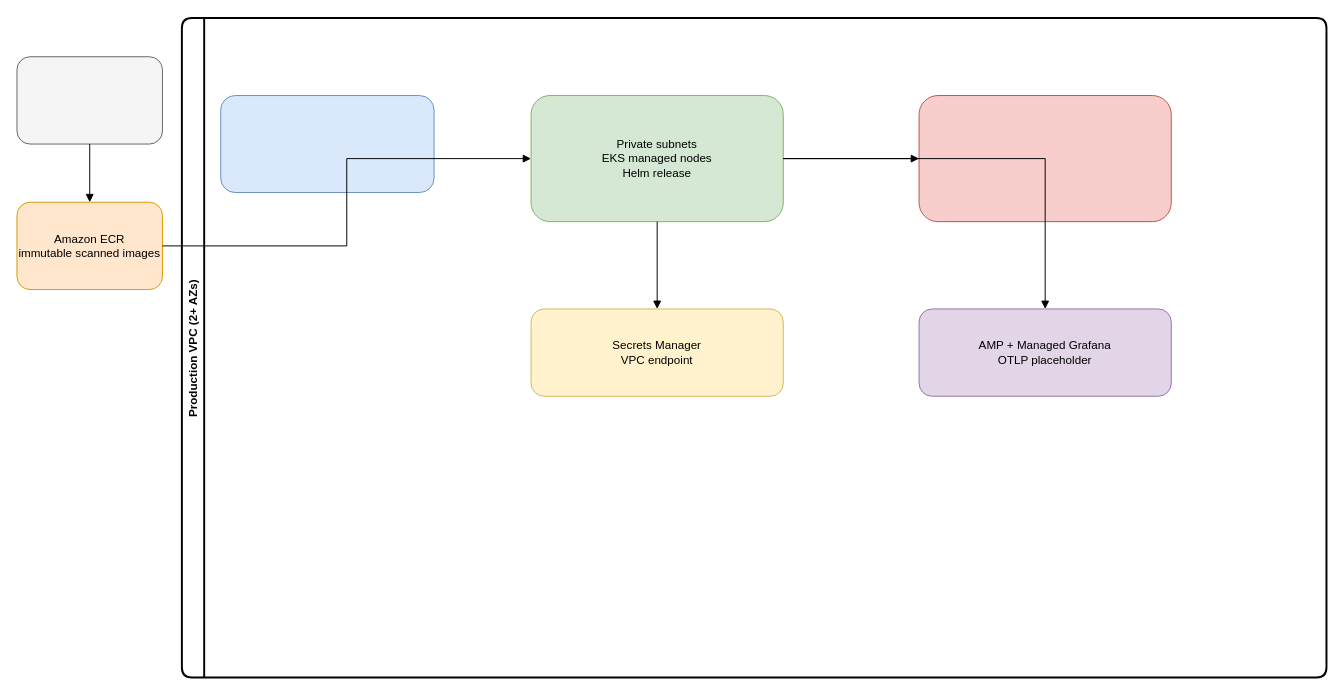
Some shapes in this 1344 by 695 pixel diagram are drawn without their labels. Here are the shapes that lost their labels. From the top down, the centre of each, then its label:
At point (89, 100): "GitHub Actions OIDC CI/CD role".
At point (327, 144): "Public subnets IGW + NAT Gateways".
At point (1044, 158): "Private subnets RDS PostgreSQL Multi-AZ + encrypted".
